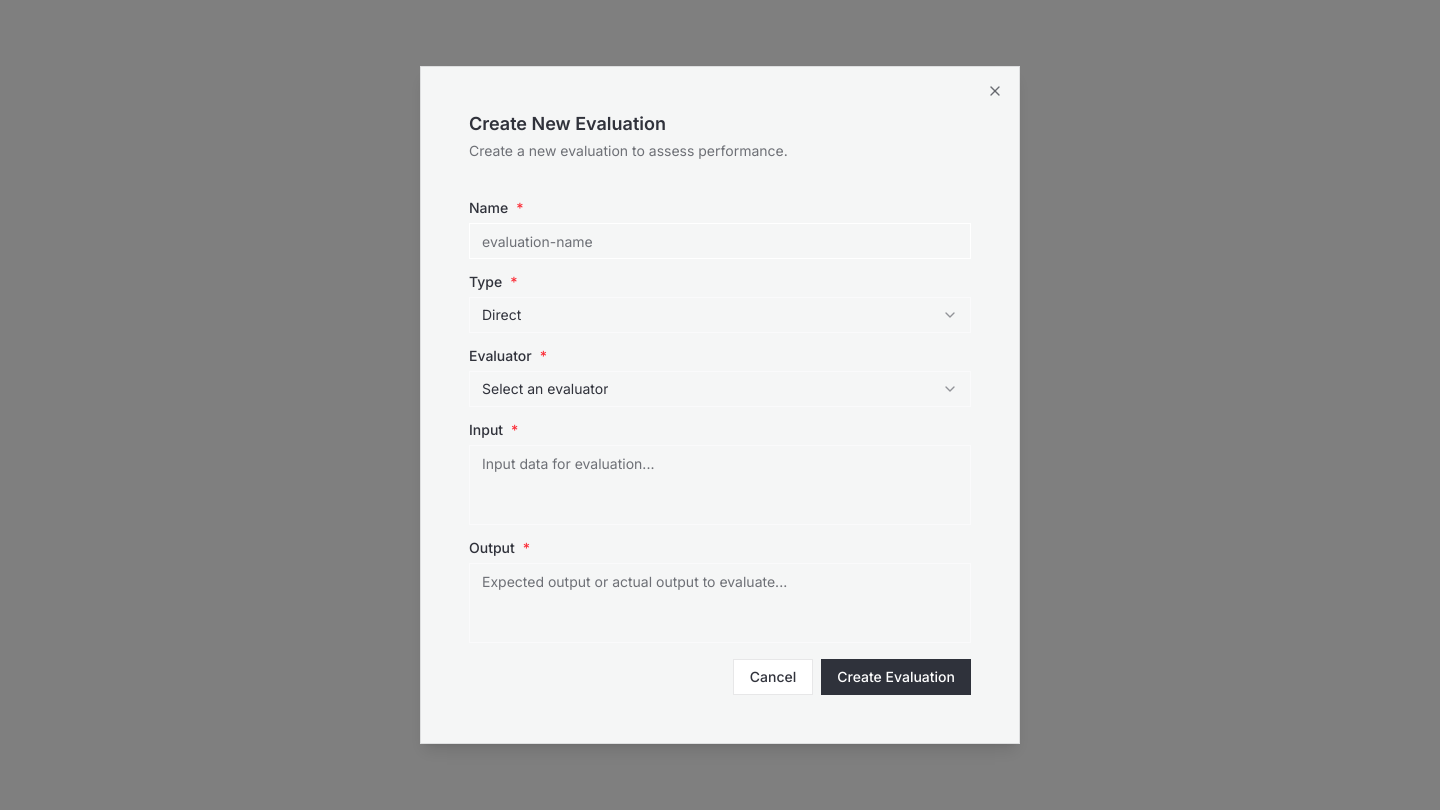
Test case: EvaluationEditor › validation › should show error when name is empty on submit
Click the button "Create Evaluation".
click(896, 677)  # box [821,659,971,695]
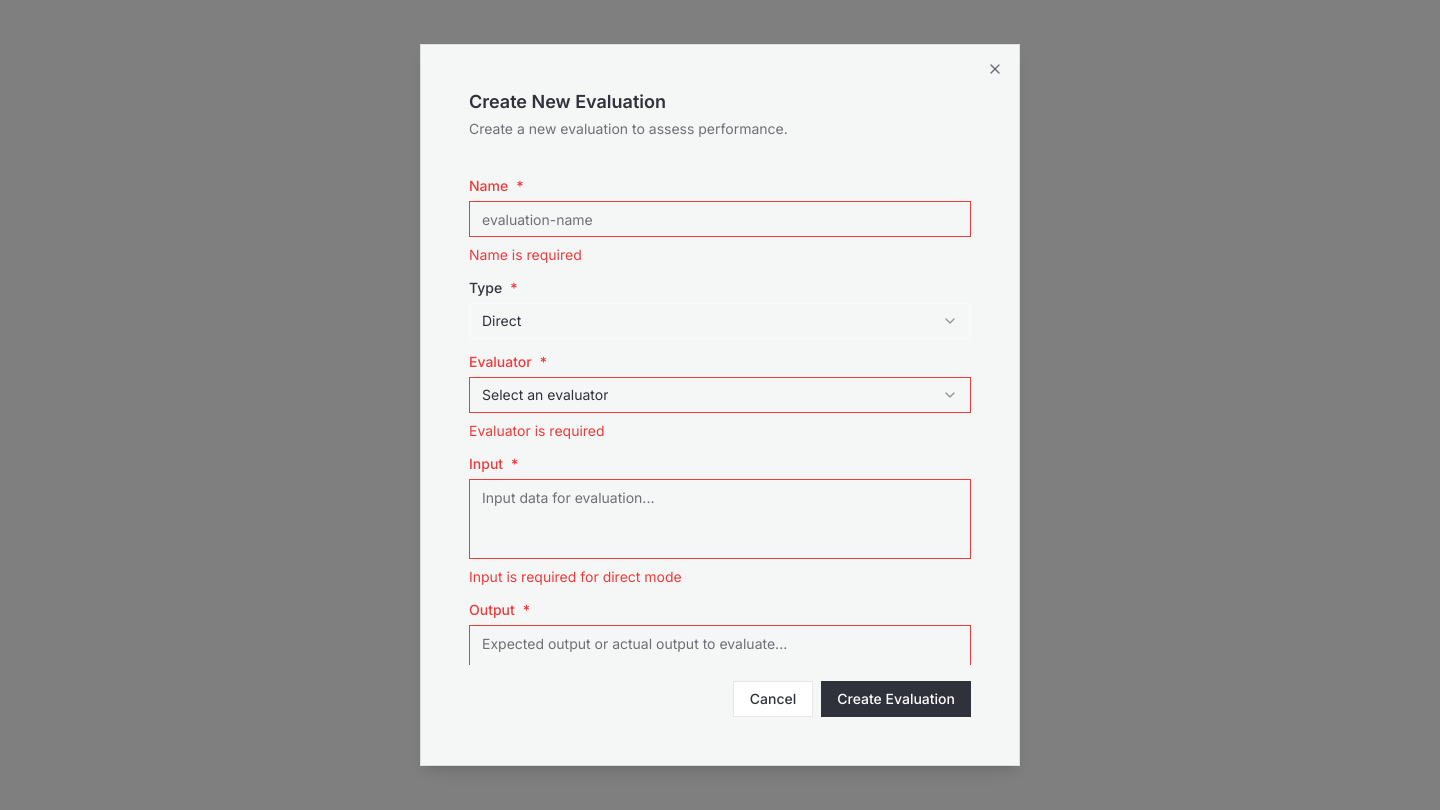
Now the text "Name is required" is shown, box [469,246,582,263]
